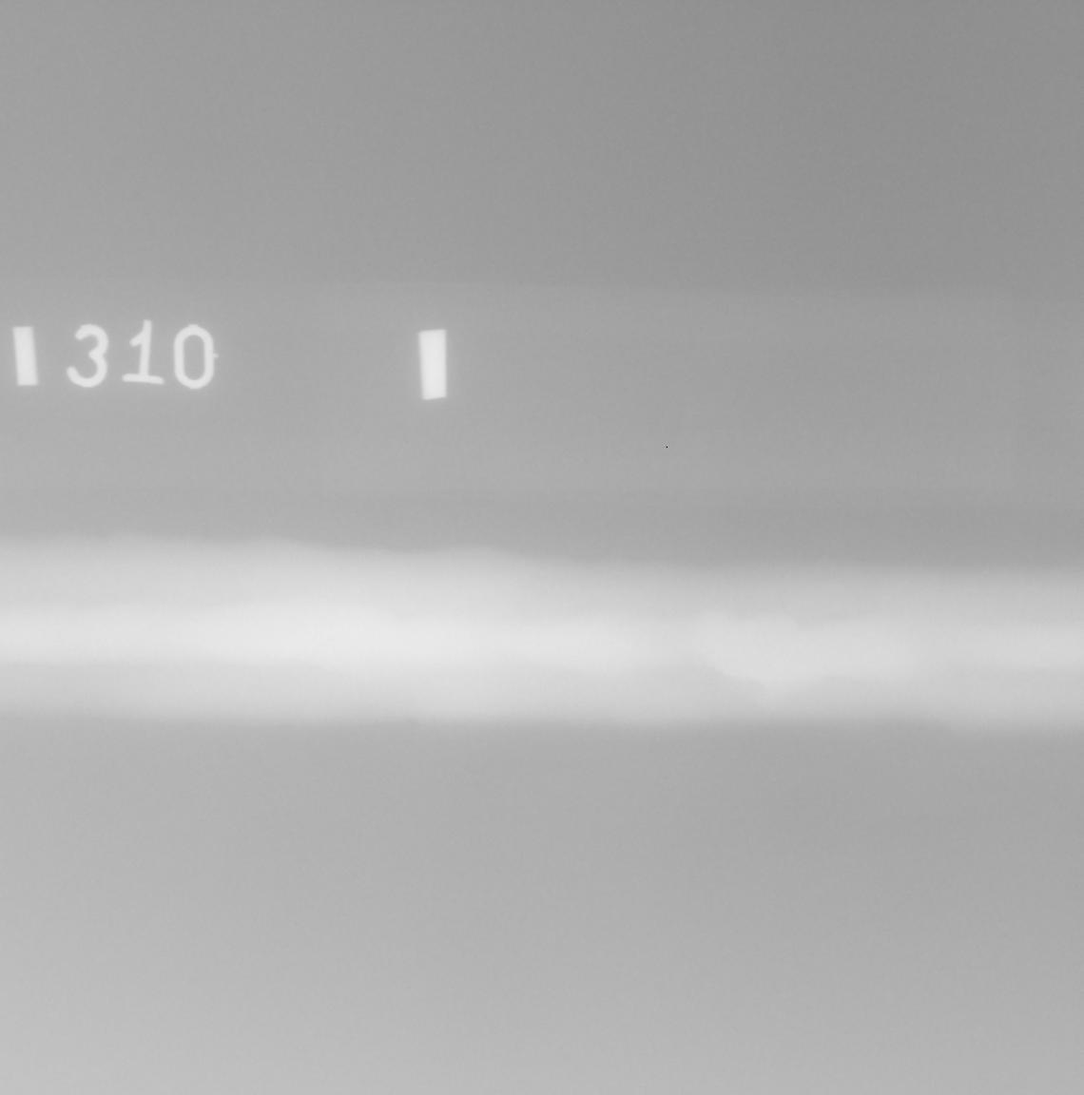Inclusion: (781, 604, 786, 612)
Pore/Porosity: (330, 637, 334, 641)
